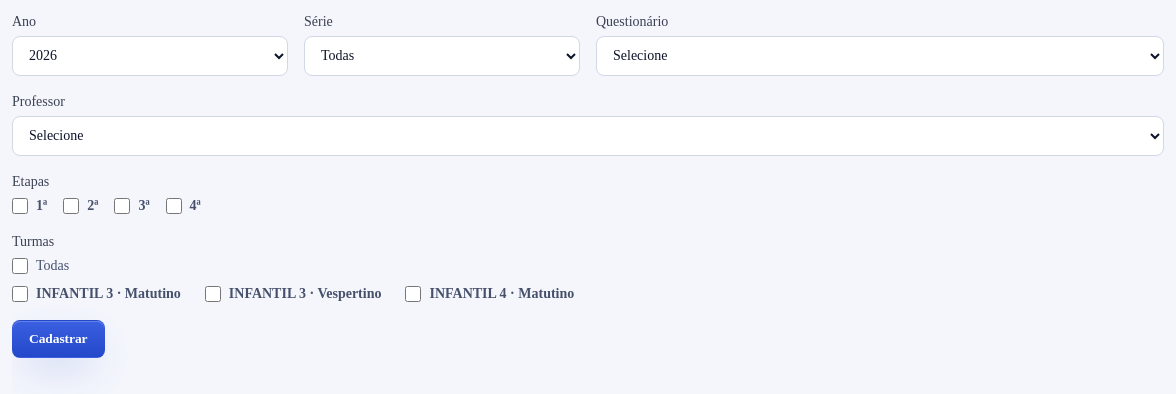
Test: AssociacoesForm (lote) › trocar a série limpa as turmas marcadas
Select "INFANTIL 3" in the dropdown labelled "Série". click: (442,56)
box: [304,36,580,76]
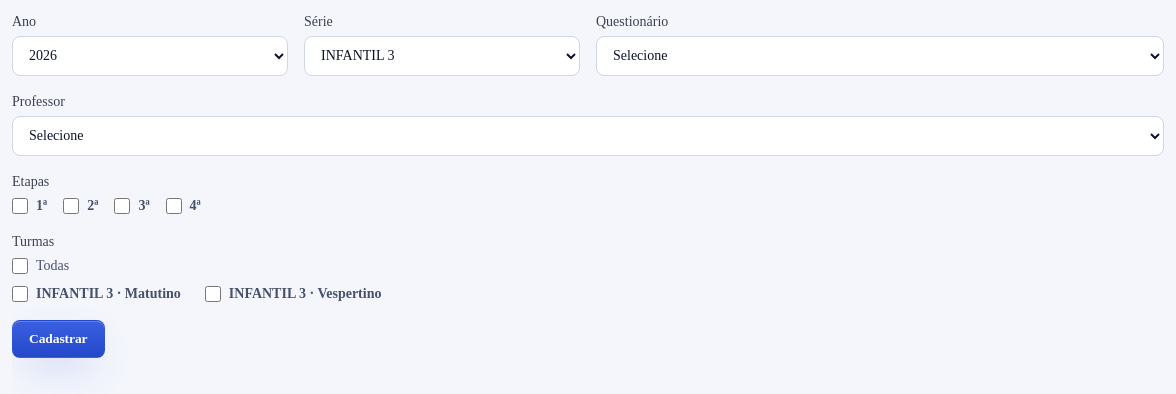
Click the checkbox named "Todas as turmas". click: (20,266)
box: [12,258,28,274]
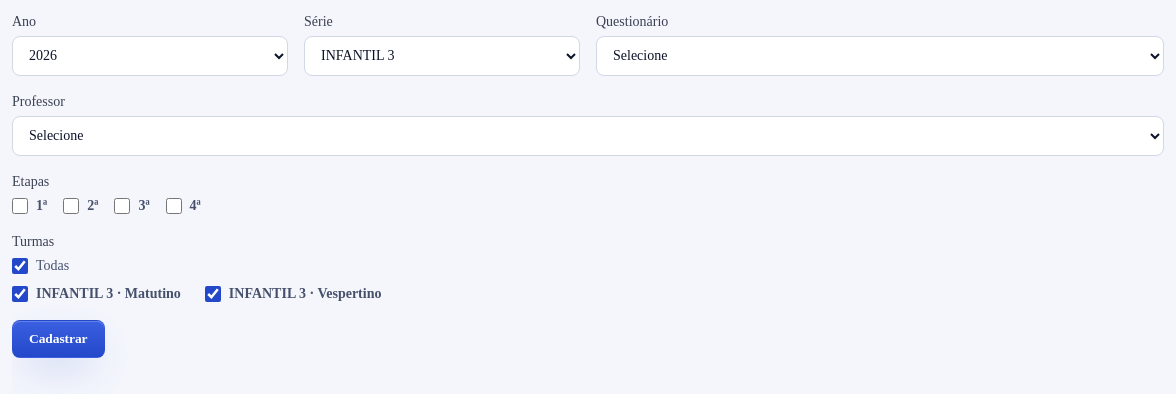
Select "INFANTIL 4" in the dropdown labelled "Série". click: (442,56)
box: [304,36,580,76]
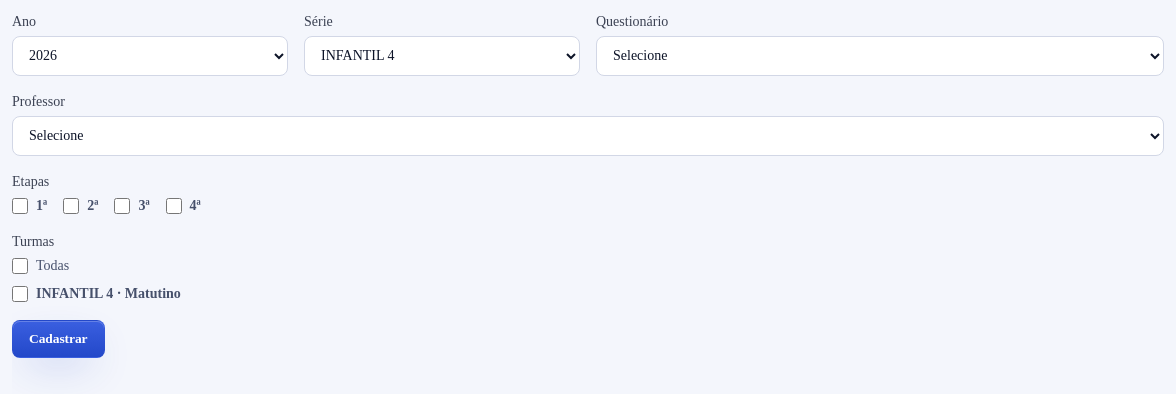
Now the checkbox labelled "Matutino" is not checked, box [12,286,28,302]
